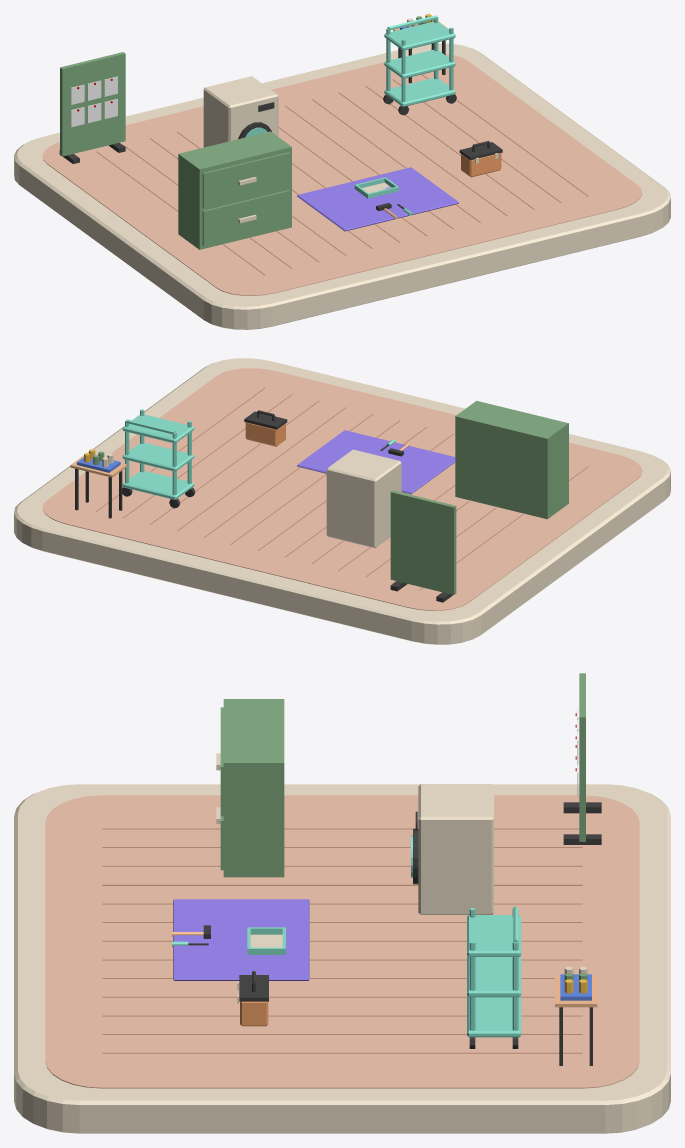
The picture shows the model from 3 angles, top to bottom: view 1: azimuth 30°, elevation 25°; view 2: azimuth 150°, elevation 25°; view 3: azimuth 270°, elevation 25°; orthographic projection. The views are drawn at different scales.
Parts seen in each view (by area): view 1: COM-02 Floor Surface, COM-01 Rounded Base Direct, Cabinet, Rug, Panel, Washing machine, Tray.002, Tray.001, Tray, Box; view 2: COM-02 Floor Surface, COM-01 Rounded Base Direct, Cabinet, Panel, Washing machine, Rug, Tray, Tray.001, Tray.002, Box, Lid; view 3: COM-02 Floor Surface, COM-01 Rounded Base Direct, Cabinet, Washing machine, Rug, Tray.002, Tray, Tray.001, Panel, Plank seam.012, Plank seam.003, Plank seam.010 (+5 smaller).
Part boxes in pixels (x1,y1,x2,y2): COM-02 Floor Surface: (42,54,642,295); COM-01 Rounded Base Direct: (14,43,670,329); Cabinet: (178,131,291,249); Rug: (297,167,458,231); Panel: (60,52,125,156); Washing machine: (203,76,278,147); Tray.002: (384,21,455,50); Tray.001: (384,49,455,78); Tray: (384,78,455,106); Box: (461,153,501,177); COM-02 Floor Surface: (42,368,642,610); COM-01 Rounded Base Direct: (14,358,670,644); Cabinet: (455,400,568,519); Panel: (390,490,456,594); Washing machine: (326,449,401,548); Rug: (297,430,455,494); Tray: (122,471,194,499); Tray.001: (122,442,194,471); Tray.002: (122,414,194,443); Box: (245,422,285,446); Lid: (244,411,287,429); COM-02 Floor Surface: (45,795,639,1088); COM-01 Rounded Base Direct: (14,784,670,1133); Cabinet: (216,699,284,877); Washing machine: (418,784,493,914); Rug: (173,899,309,980); Tray.002: (467,915,521,956); Tray: (467,996,521,1037); Tray.001: (467,956,521,997); Panel: (579,673,585,841); Plank seam.012: (102,1052,582,1053); Plank seam.003: (102,884,582,885); Plank seam.010: (102,1015,582,1016).
Bounding box in the file's own units: 6 × 1.44 × 5.2.
1 material, 1 textured.
